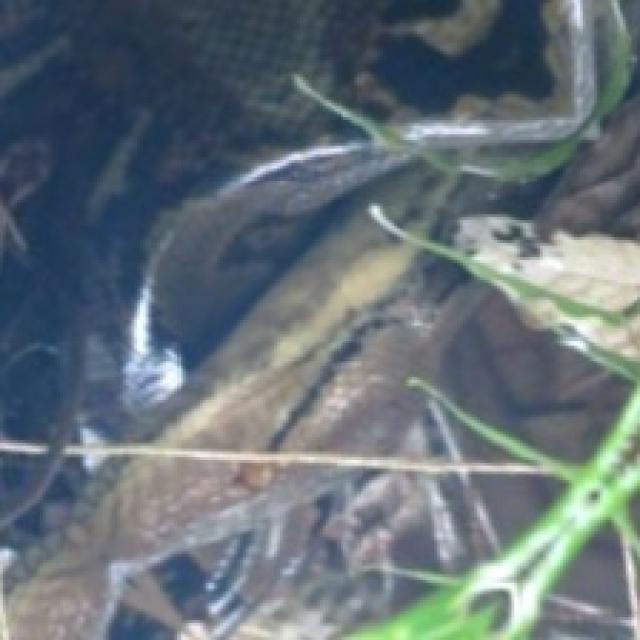reticulated python: (0, 0, 637, 637), (534, 531, 629, 637)
